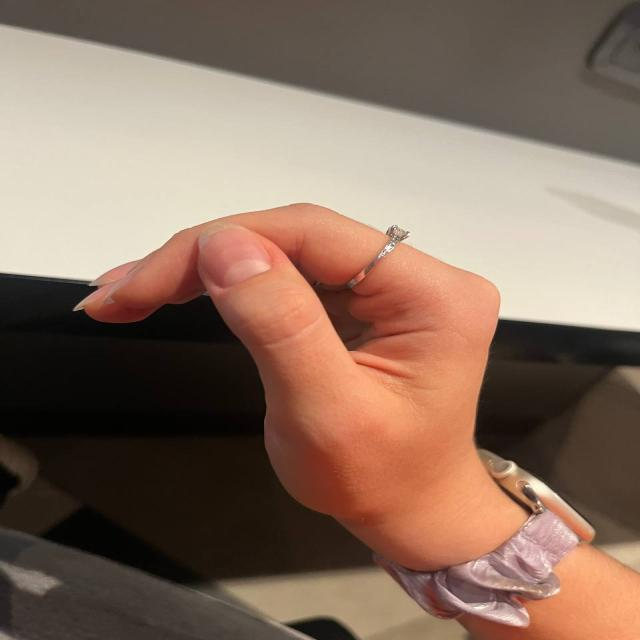f: (65, 163, 522, 490)
